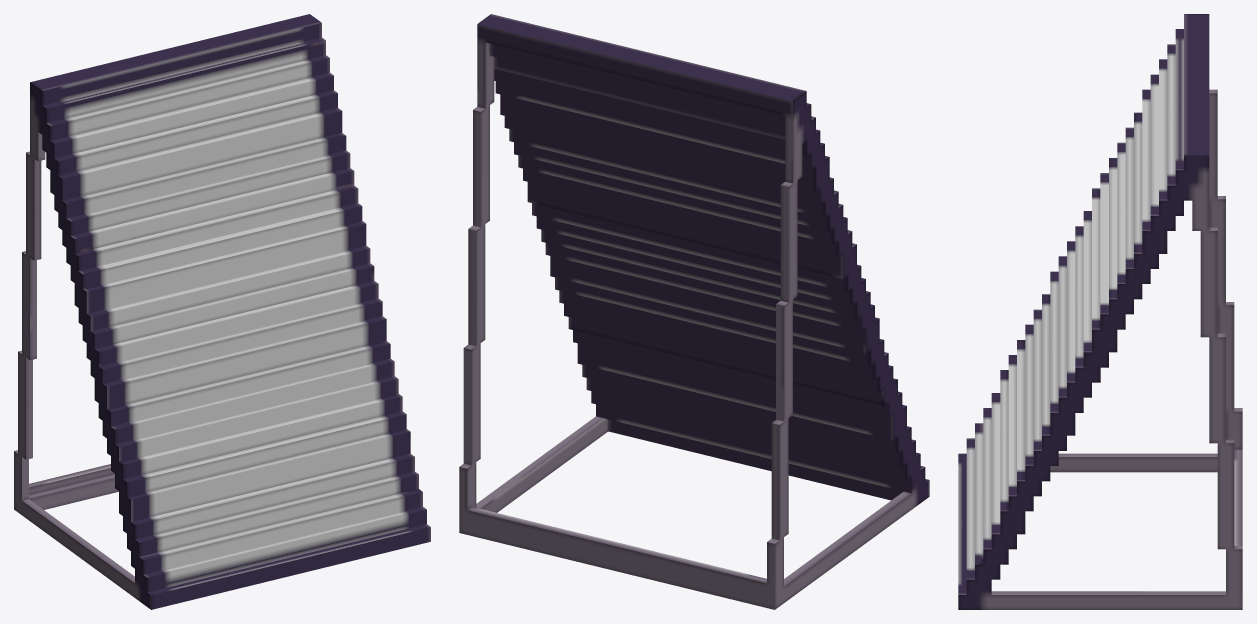
The model's file is cermin_3.obj.
3 renders of one model, left to right at view 1: azimuth 30°, elevation 25°; view 2: azimuth 150°, elevation 25°; view 3: azimuth 270°, elevation 25°, orthographic. The views are drawn at different scales.
Parts seen in each view (by area): view 1: cermin_3; view 2: cermin_3; view 3: cermin_3.
Part boxes in pixels (box(x1,y1,x2,y2)): cermin_3: box(14, 14, 430, 609); cermin_3: box(459, 14, 929, 609); cermin_3: box(958, 14, 1242, 609).
Bounding box in the file's own units: 4 × 6 × 3.4.
Materials: 1 (1 with a texture image).
